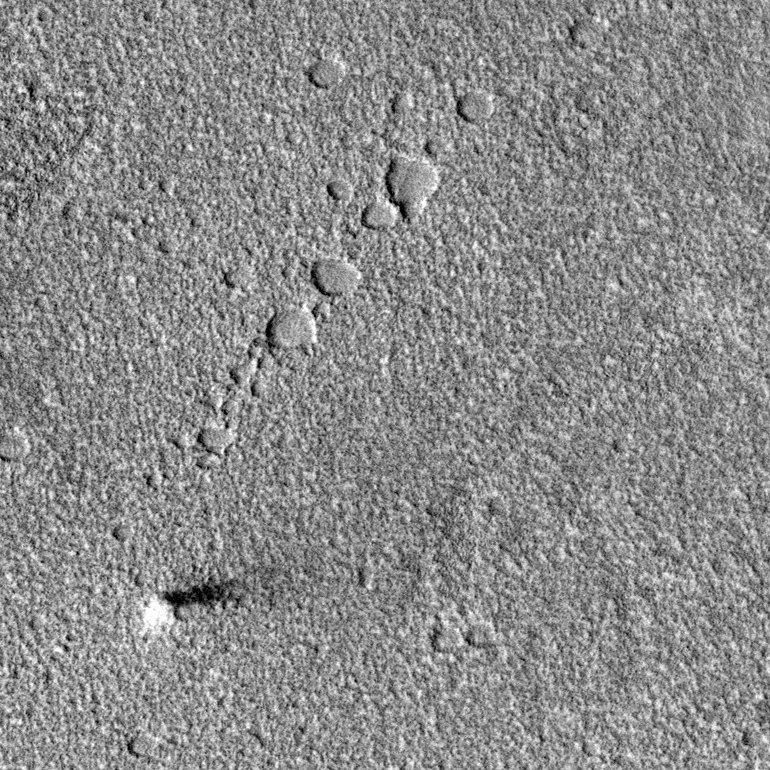dust_devil: (134, 574, 244, 641)
